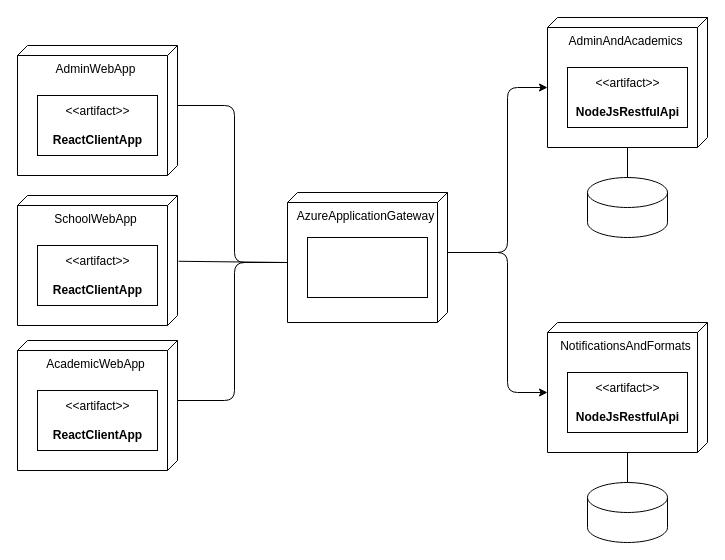
This 725x560 diagram has some shape labels left out. Each missing label, with the centre of its shape:
<<artifact>> Gateway: the point at 367,267
MongoDB: the point at 627,207
MySQL: the point at 627,512
